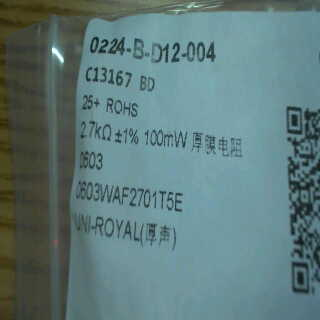2.7kR: (77, 117, 115, 147)
